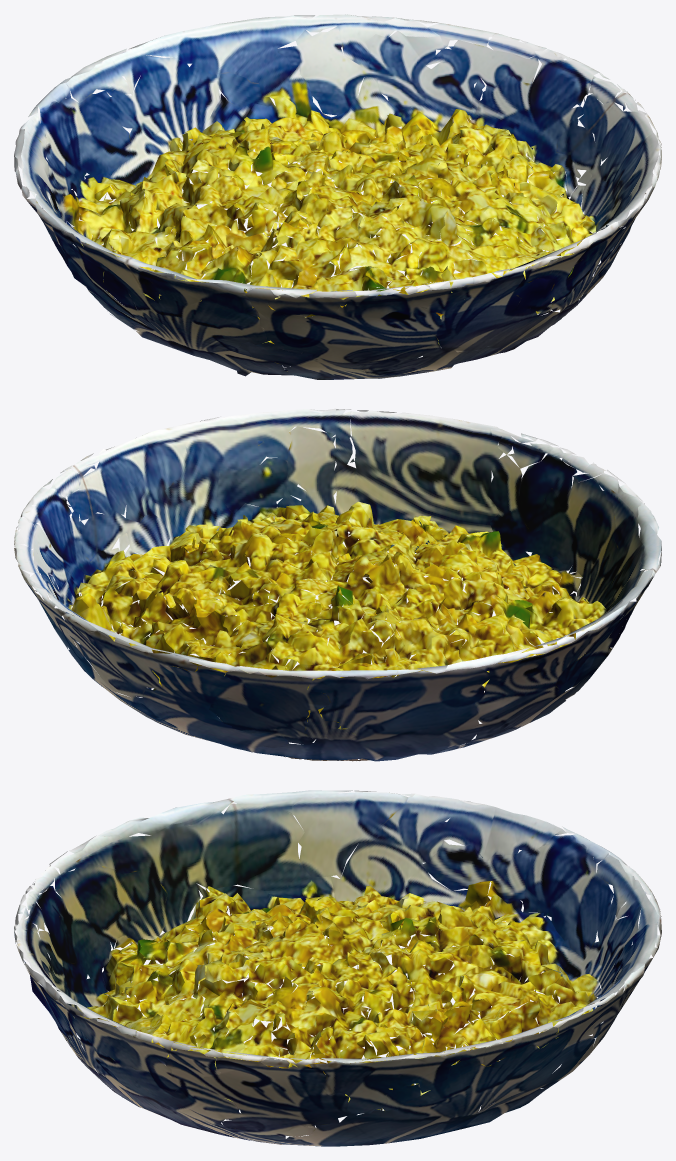
File: TofuRevueltoS.glb
3 renders of one model, top to bottom at view 1: azimuth 30°, elevation 25°; view 2: azimuth 150°, elevation 25°; view 3: azimuth 270°, elevation 25°, orthographic.
Parts seen in each view (by area): view 1: TofuRevuelto; view 2: TofuRevuelto; view 3: TofuRevuelto.
Part boxes in pixels (x1,y1,x2,y2): TofuRevuelto: (14,14,661,379); TofuRevuelto: (14,408,661,761); TofuRevuelto: (14,790,661,1146).
Bounding box in the file's own units: 1.18 × 0.2964 × 1.18.
1 material, 1 textured.
